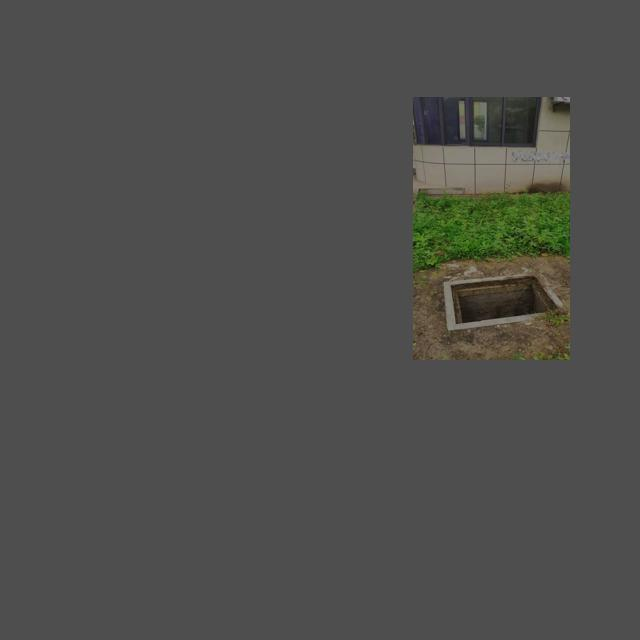lose: (444, 271, 568, 332)
